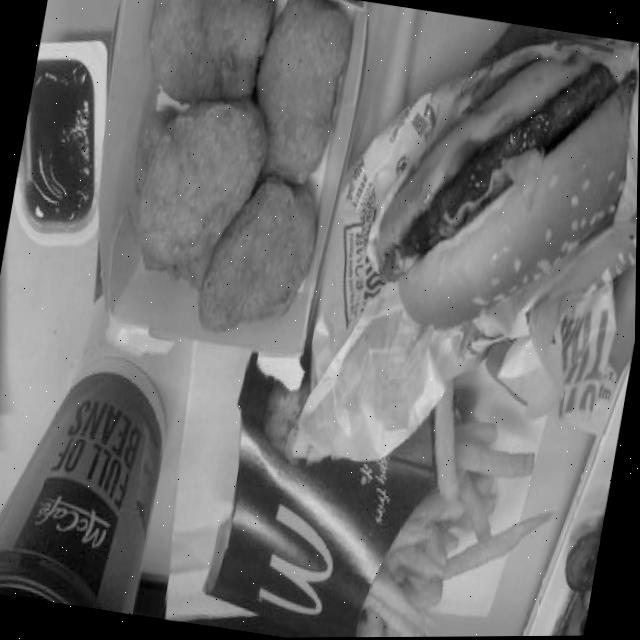汉堡快餐: (352, 23, 640, 359)
炸货点心: (190, 352, 575, 639)
